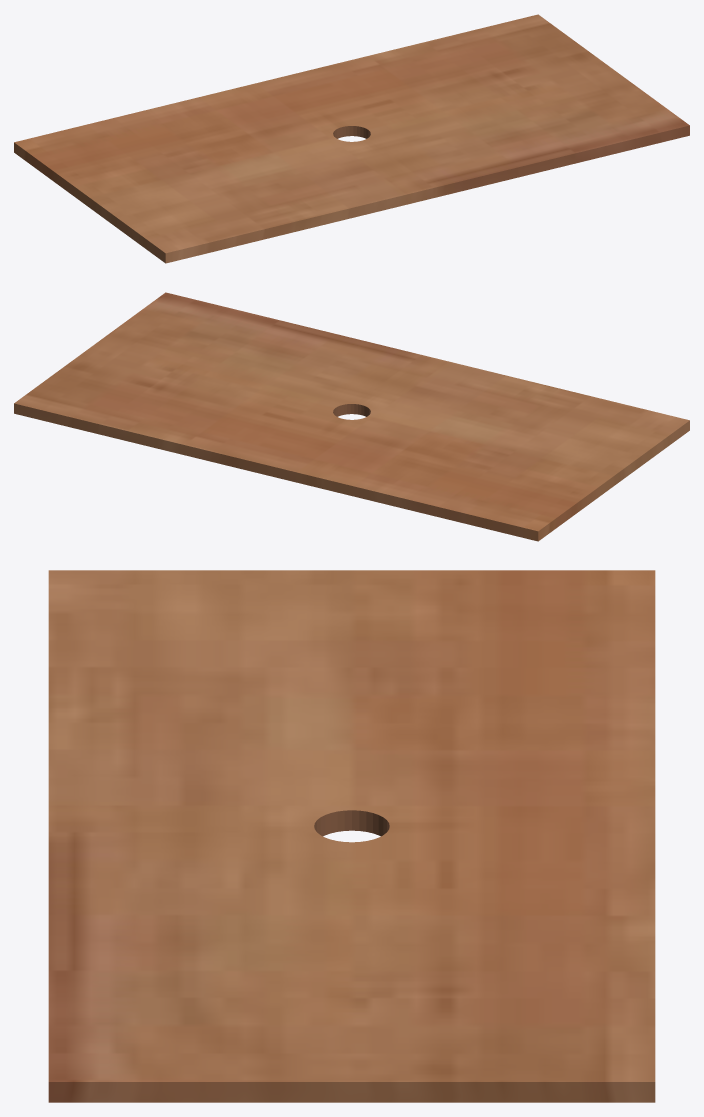
The model's file is wall.obj.
The picture shows the model from 3 angles, top to bottom: view 1: azimuth 30°, elevation 25°; view 2: azimuth 150°, elevation 25°; view 3: azimuth 270°, elevation 25°; orthographic projection. The views are drawn at different scales.
Visible parts, largest first — view 1: wall_Cube.002; view 2: wall_Cube.002; view 3: wall_Cube.002.
Boxes of the visible parts, bbox=[...] form: wall_Cube.002: bbox=[14, 14, 689, 263]; wall_Cube.002: bbox=[14, 292, 689, 541]; wall_Cube.002: bbox=[48, 570, 655, 1102].
Size of the model in its own units: 0.8 by 0.0149 by 0.4009.
